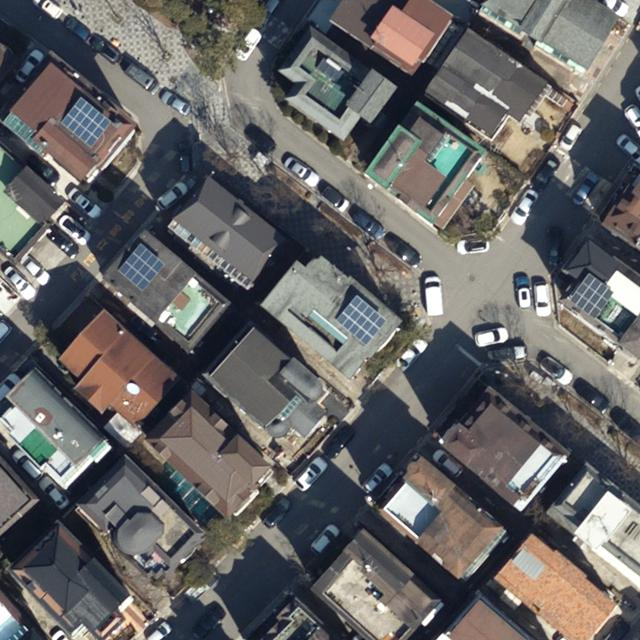panel: (334, 293, 387, 348), (60, 94, 113, 149), (117, 241, 166, 293), (571, 272, 617, 321)
